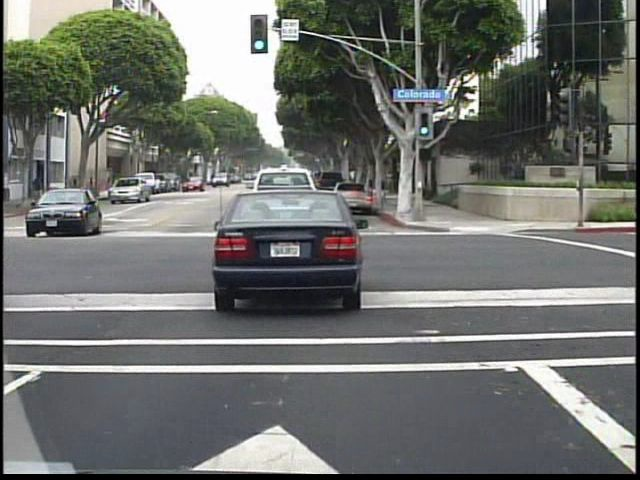person: (33, 174, 47, 203)
